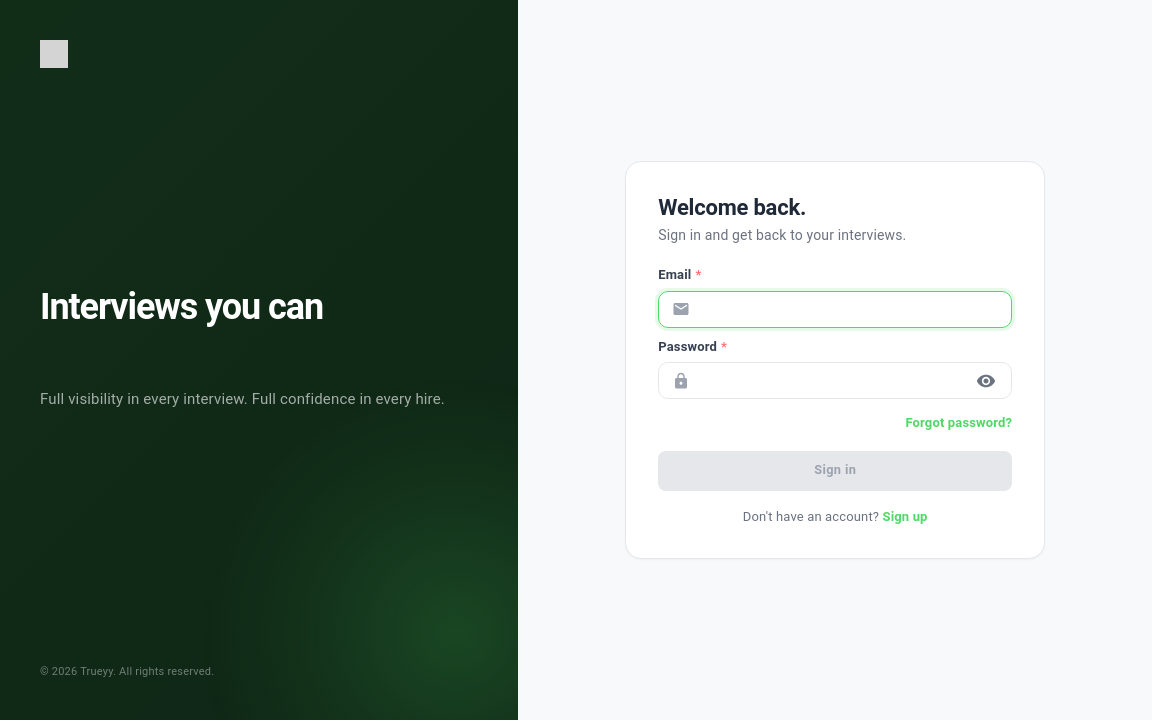
Test: Login › 401 shows the invalid-credentials error
In the field labelled "Email *": (855, 309) [698,291,1012,328], type "jane@acme.com"
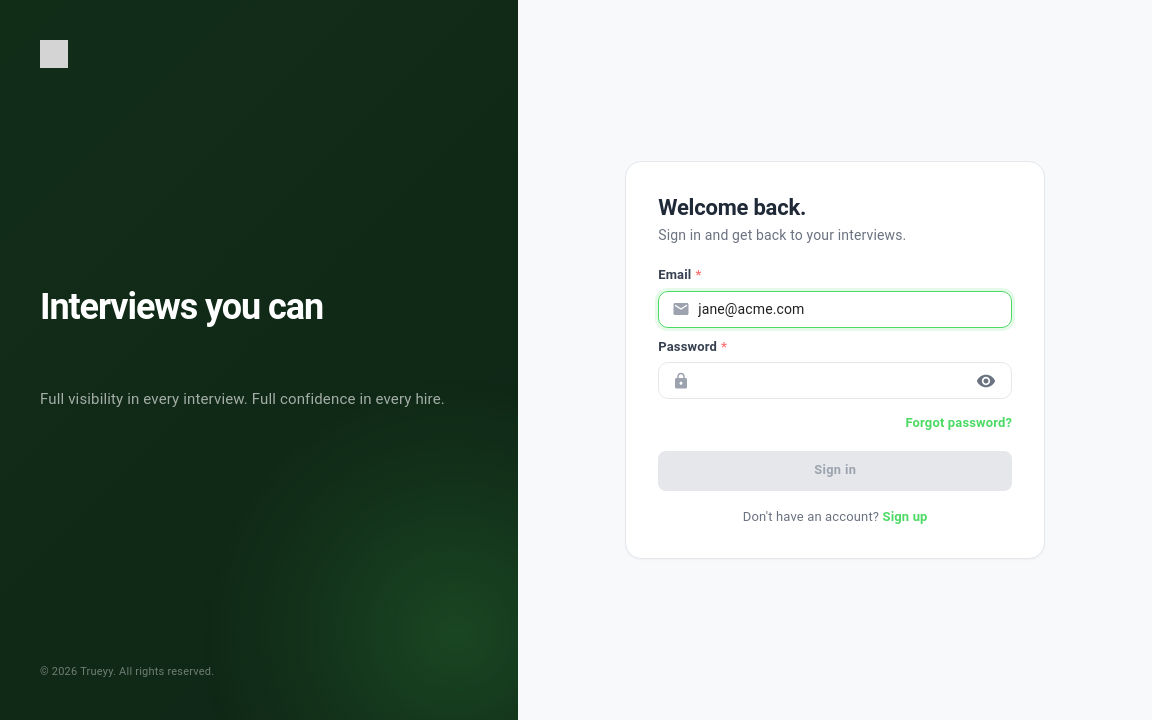
In the password field labelled "Password *": (831, 381) [698,362,963,399], type "wrongpass"
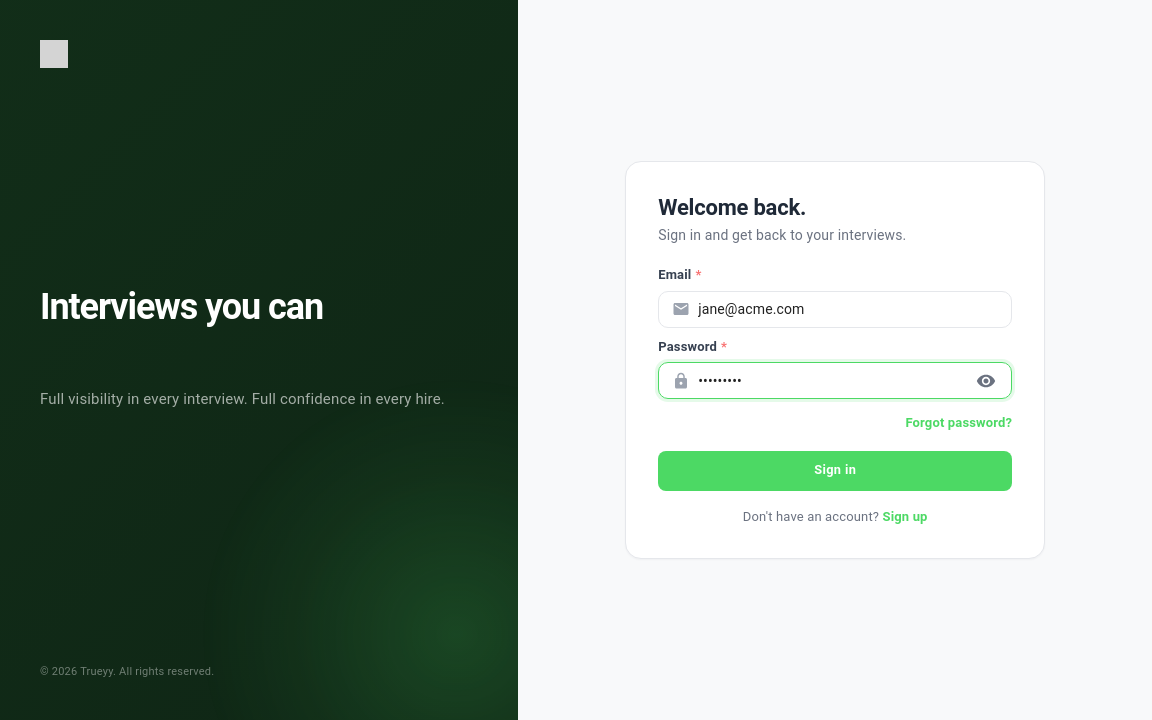
Click the button "Sign in": (835, 471) [658,451,1012,491]
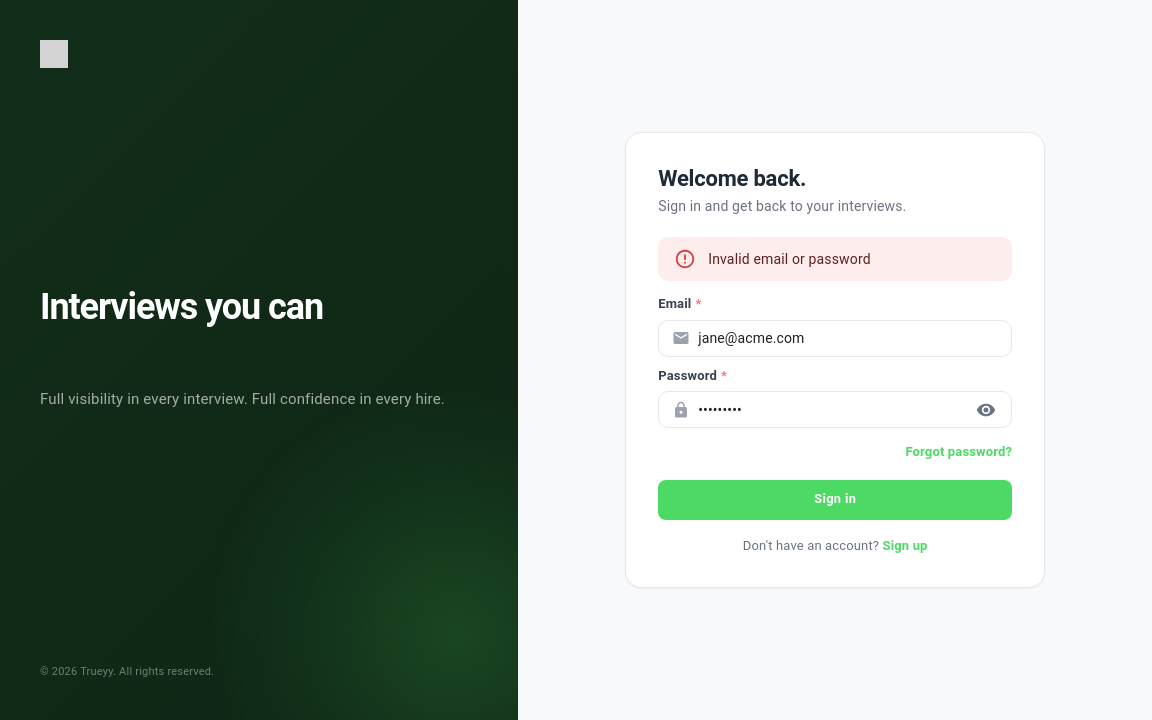
Now the text "Invalid email or password" is shown, box [708,251,871,267]
